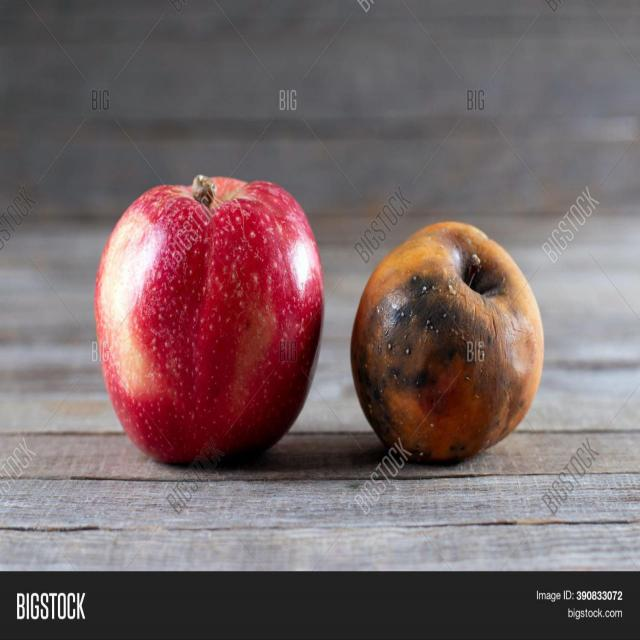fresh_apple: (93, 174, 325, 477)
rotten_apple: (350, 219, 546, 465)
